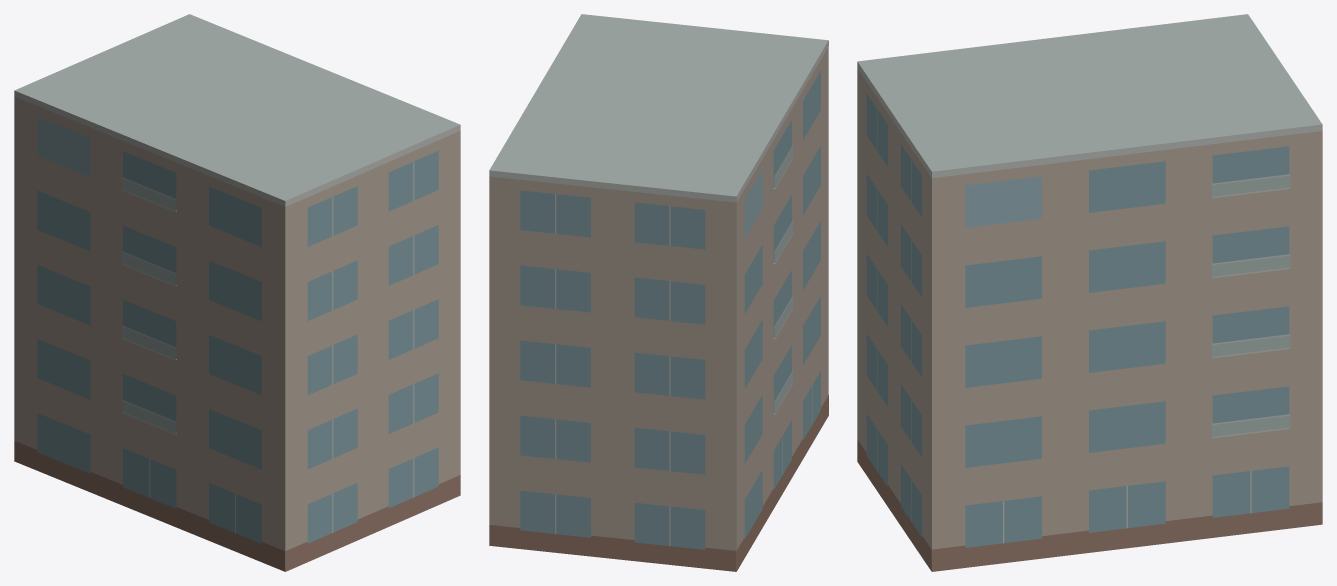
Rendered from survey-upis-32493806.glb.
3 views of the same model, side by side, from view 1: azimuth 30°, elevation 25°; view 2: azimuth 150°, elevation 25°; view 3: azimuth 270°, elevation 25° (orthographic). The views are drawn at different scales.
Parts seen in each view (by area): view 1: survey-upis-32493806.tmp; view 2: survey-upis-32493806.tmp; view 3: survey-upis-32493806.tmp.
Part boxes in pixels (x1=…): survey-upis-32493806.tmp: x1=14, y1=14, x2=460, y2=571; survey-upis-32493806.tmp: x1=489, y1=14, x2=828, y2=571; survey-upis-32493806.tmp: x1=857, y1=14, x2=1322, y2=571.
Size of the model in its own units: 12.79 by 15.11 by 15.94.
